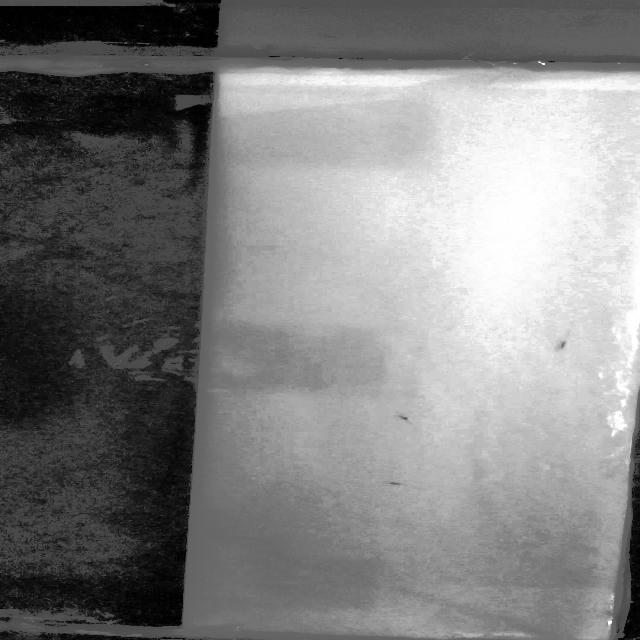shrimp: (545, 325, 580, 354), (390, 410, 429, 426), (384, 476, 407, 490)
